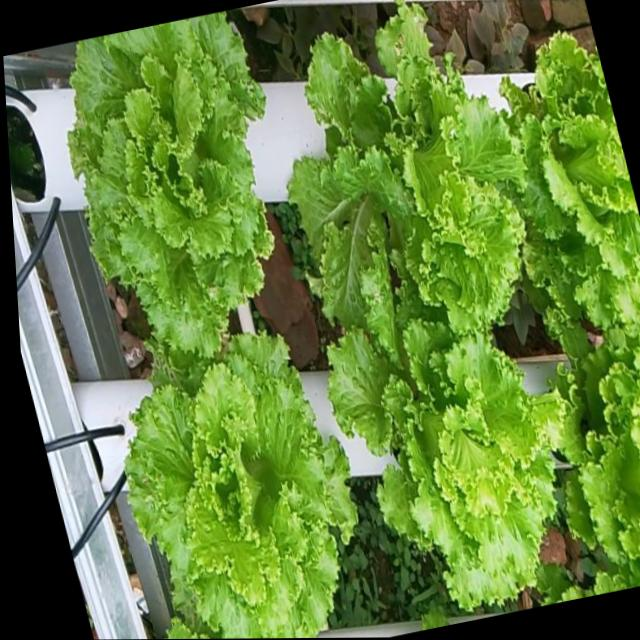Mature: (292, 3, 538, 335), (70, 13, 279, 381), (333, 302, 572, 619), (131, 344, 367, 639), (507, 25, 640, 326), (569, 330, 640, 586)
